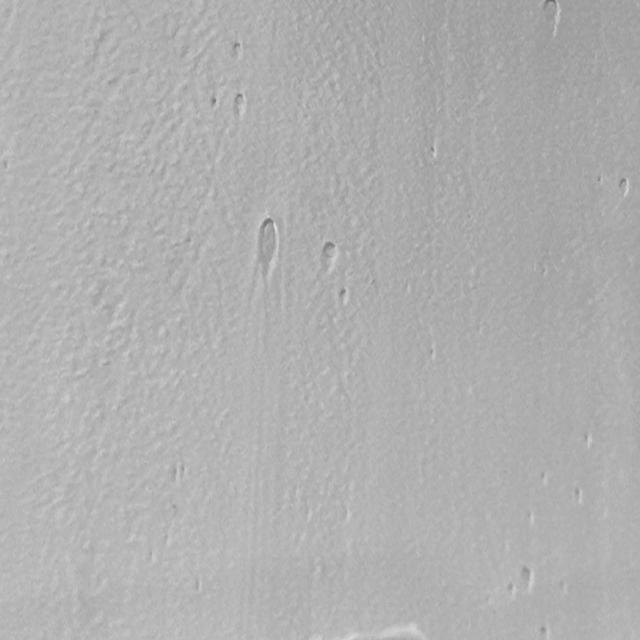pin holes: (253, 215, 285, 278), (538, 0, 564, 36), (317, 241, 339, 272), (519, 565, 539, 593), (231, 91, 249, 119), (579, 429, 598, 453), (616, 175, 632, 202), (569, 484, 587, 508), (230, 40, 246, 64), (178, 457, 190, 486), (167, 463, 179, 487), (337, 287, 350, 307), (192, 571, 202, 595), (538, 470, 552, 487), (428, 341, 439, 362), (429, 138, 439, 161), (524, 509, 536, 528), (538, 623, 553, 638), (506, 581, 518, 599), (208, 95, 220, 112)
